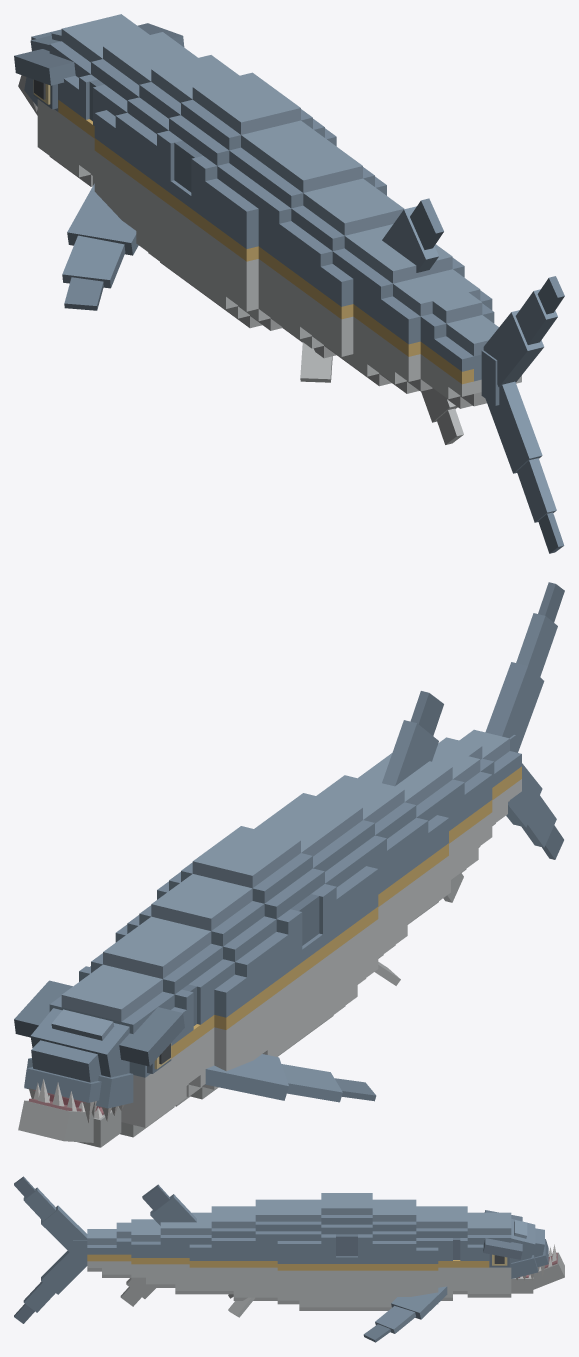
The model's file is Xiphactinus.glb.
3 renders of one model, top to bottom at view 1: azimuth 30°, elevation 25°; view 2: azimuth 150°, elevation 25°; view 3: azimuth 270°, elevation 25°, orthographic. The views are drawn at different scales.
Parts seen in each view (by area): view 1: B3, B2, B4, Tail, Head, B9, B10, B5, B6, FinL, B7, B1 (+3 smaller); view 2: Head, B2, B3, B4, Tail, B1, B9, FinL, B7, Jaw, B6, B5 (+4 smaller); view 3: B2, B3, Head, B4, Tail, B9, B1, B10, B6, B5, B7, B8 (+4 smaller).
Part boxes in pixels (box(x1,y1,x2,y2)): B3: box(157, 72, 336, 312); B2: box(94, 52, 239, 277); B4: box(205, 120, 341, 330); Tail: box(481, 276, 564, 553); Head: box(14, 14, 184, 186); B9: box(353, 198, 464, 386); B10: box(381, 269, 492, 444); B5: box(258, 151, 386, 342); B6: box(279, 178, 383, 382); FinL: box(62, 183, 138, 310); B7: box(300, 193, 404, 360); B1: box(79, 32, 189, 185); Head: box(14, 964, 186, 1137); B2: box(115, 874, 288, 1099); B3: box(157, 826, 336, 1056); B4: box(254, 808, 378, 1030); Tail: box(485, 582, 564, 859); B1: box(79, 932, 214, 1106); B9: box(365, 691, 464, 911); FinL: box(205, 1054, 376, 1102); B7: box(324, 775, 428, 923); Jaw: box(18, 1079, 121, 1147); B6: box(316, 790, 407, 985); B5: box(283, 793, 386, 956); B2: box(372, 1199, 438, 1310); B3: box(321, 1193, 372, 1310); Head: box(467, 1210, 548, 1297); B4: box(277, 1199, 321, 1310); Tail: box(14, 1176, 87, 1323); B9: box(142, 1184, 196, 1294); B1: box(438, 1206, 467, 1300); B10: box(120, 1219, 160, 1306); B6: box(228, 1206, 255, 1317); B5: box(255, 1199, 277, 1300); B7: box(211, 1206, 233, 1294); B8: box(189, 1212, 211, 1294).
Size of the model in its own units: 11.75 by 9.94 by 33.93.
